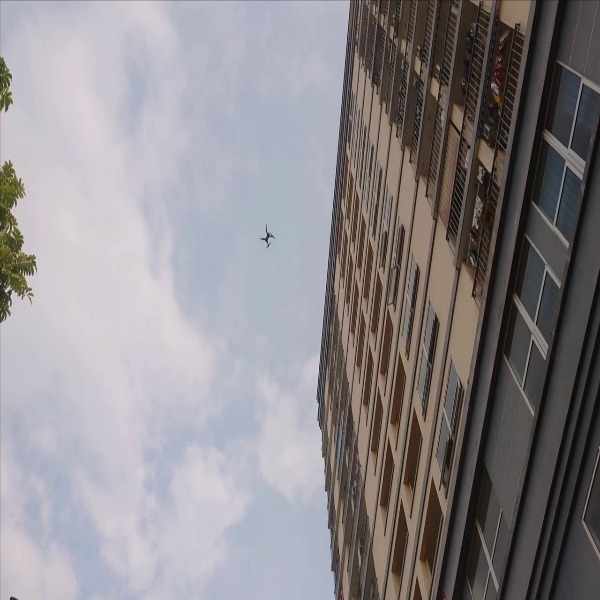drone: (256, 222, 279, 251)
